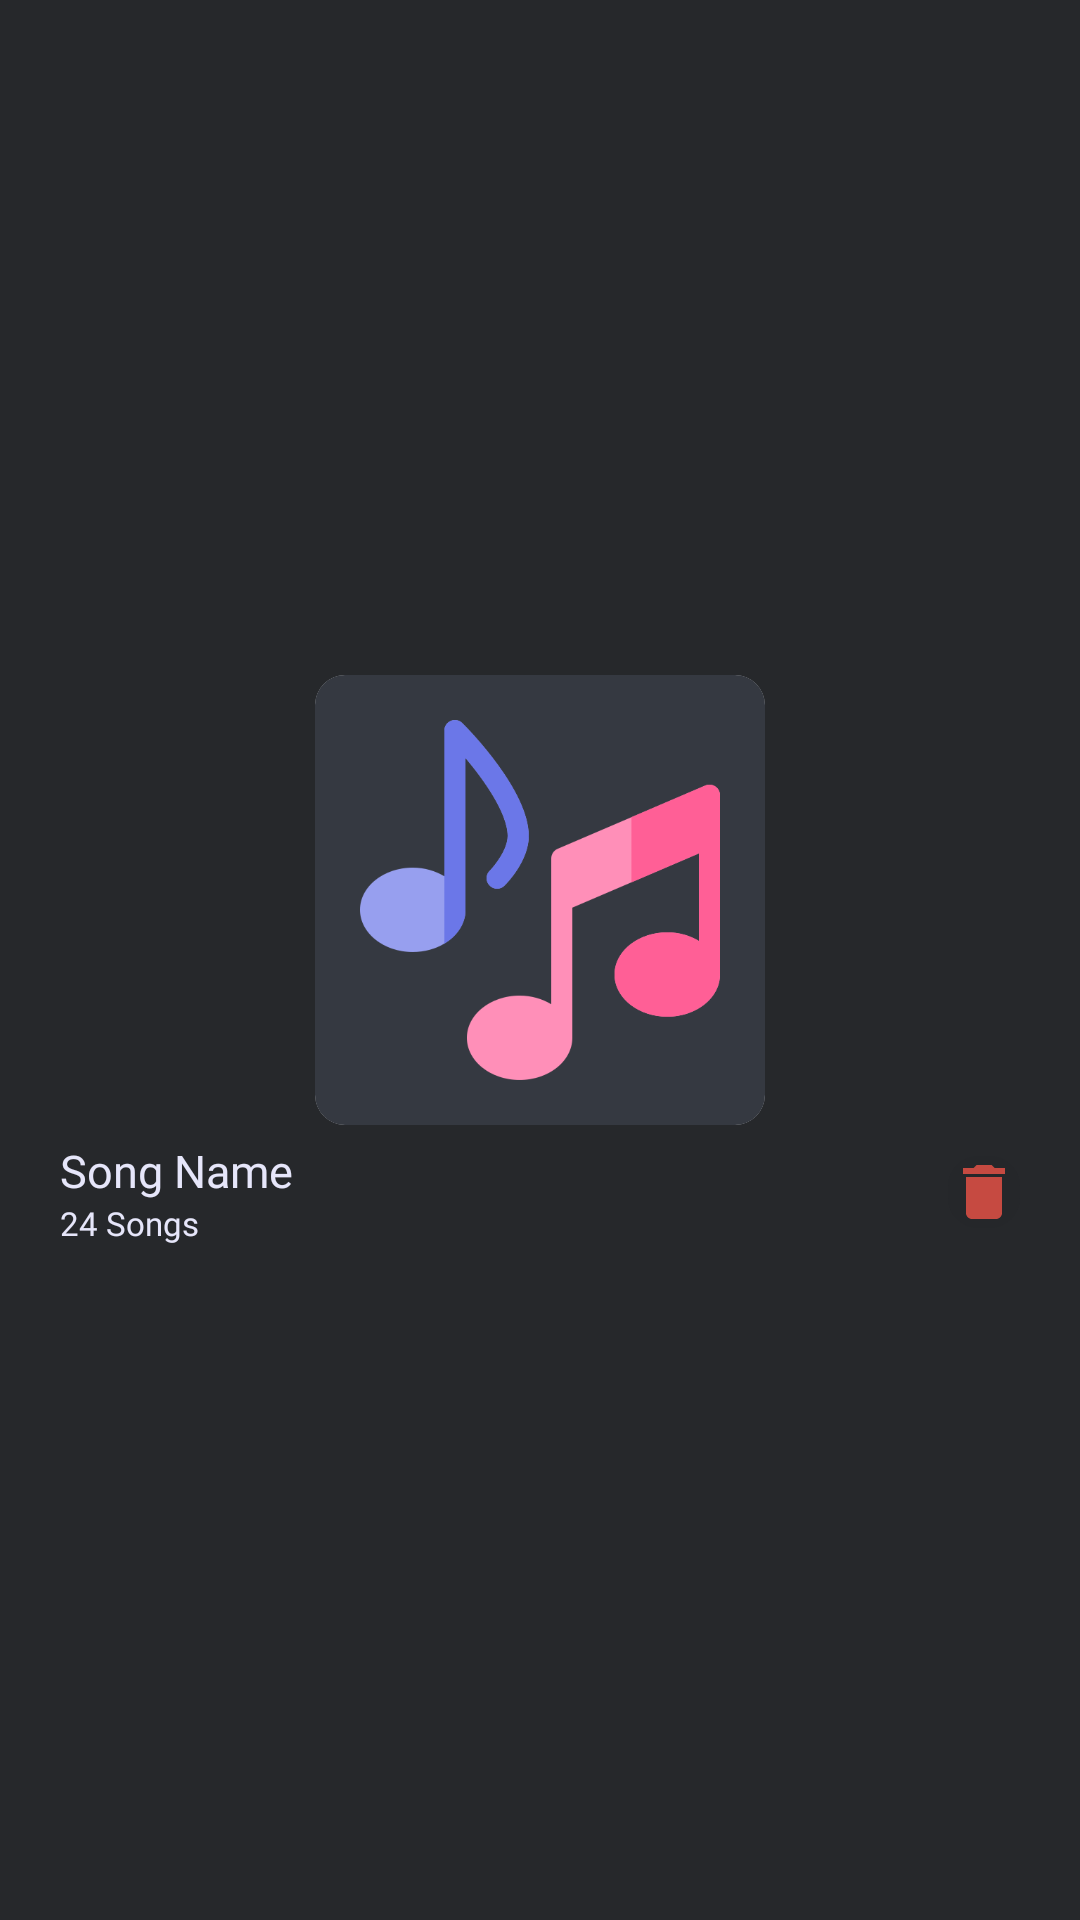

Screen size 1080x1920. Icon name, then its center in pixels as (x=x, y=y):
delete: (x=984, y=1192)
